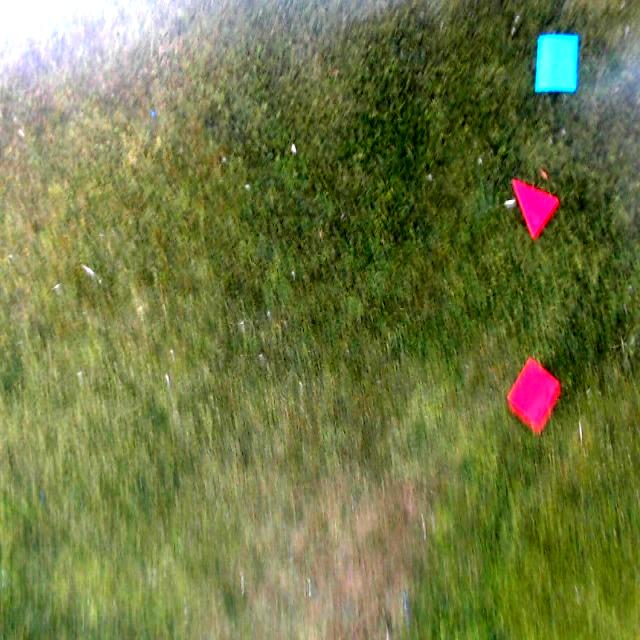blue_square: (534, 35, 578, 90)
red_square: (508, 357, 558, 433)
red_triangle: (512, 180, 558, 240)
